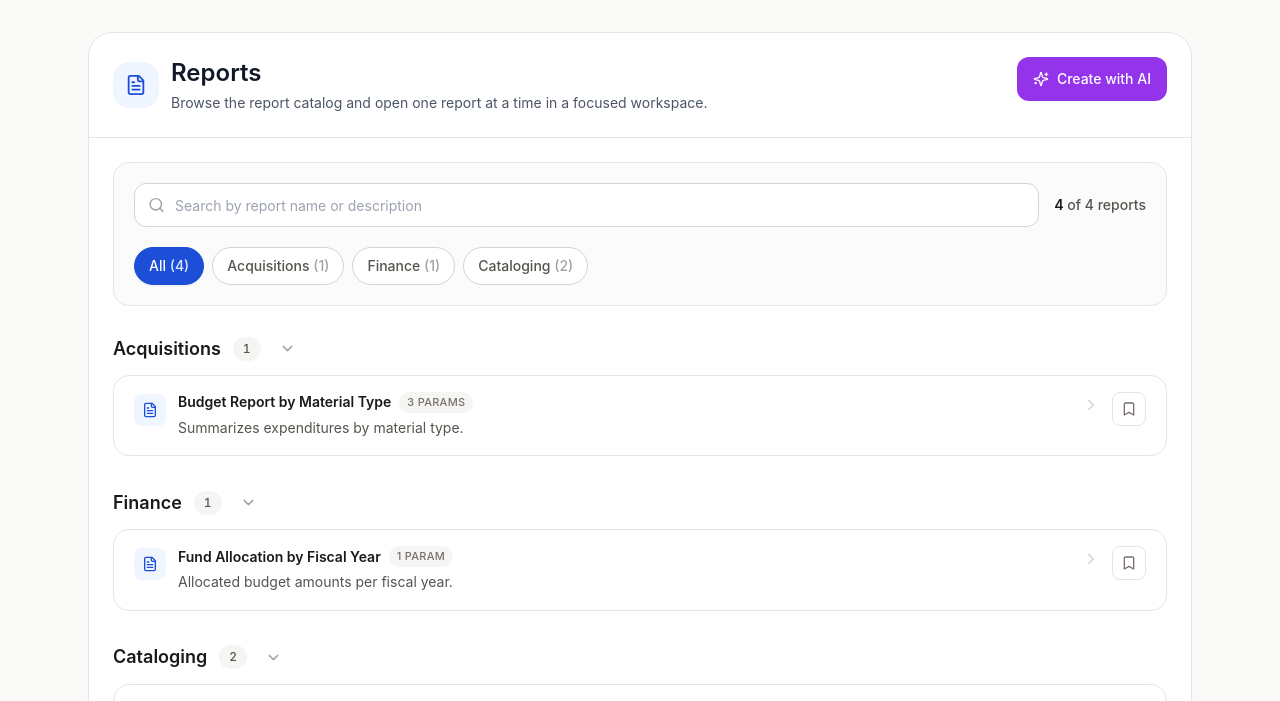
Scenario: Reports › filters by report name or description and combines text search with category
Type "ALLOCATED" into the search field named "Search reports" at point(586, 205), box x1=134 y1=183 x2=1039 y2=227
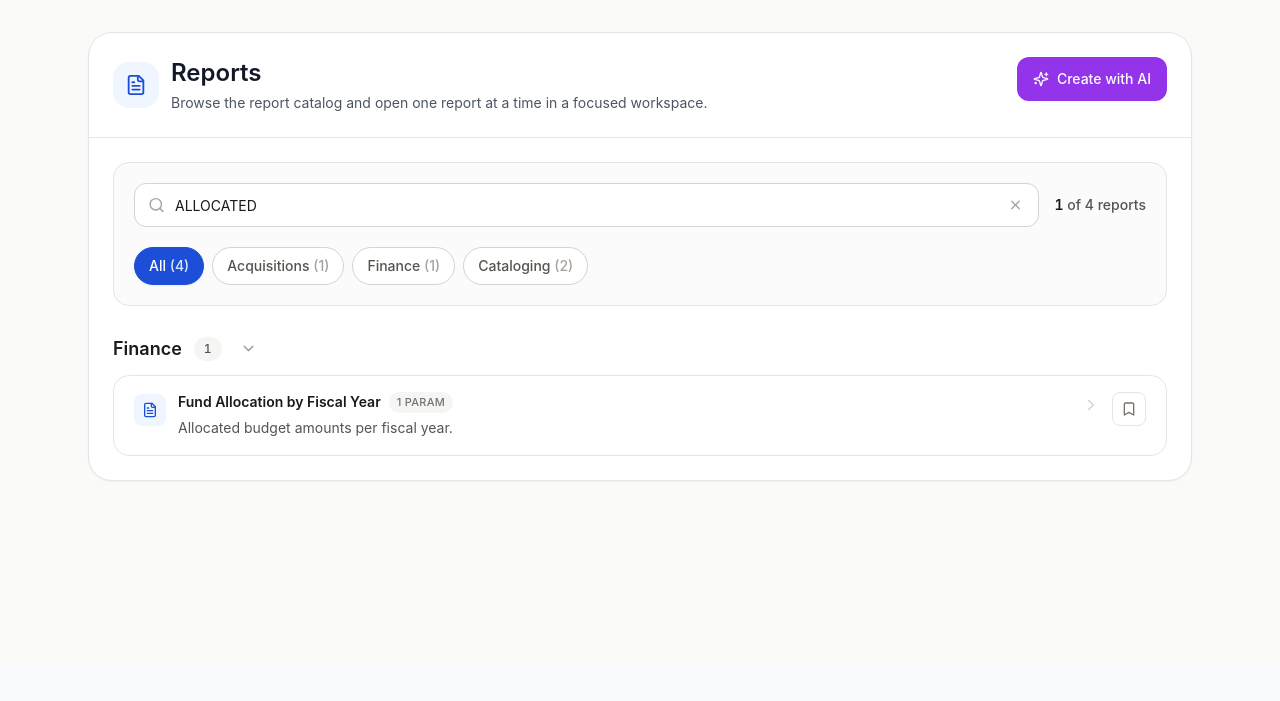
Expected: the text "Fund Allocation by Fiscal Year" is shown, x1=178 y1=392 x2=381 y2=412
Result: the message reads "1 of 4 reports" at x1=1055 y1=195 x2=1146 y2=215
Result: the button "Budget Report by Material Type" is gone
Click the button "Cataloging (2)" at point(526, 266), box x1=463 y1=247 x2=588 y2=285
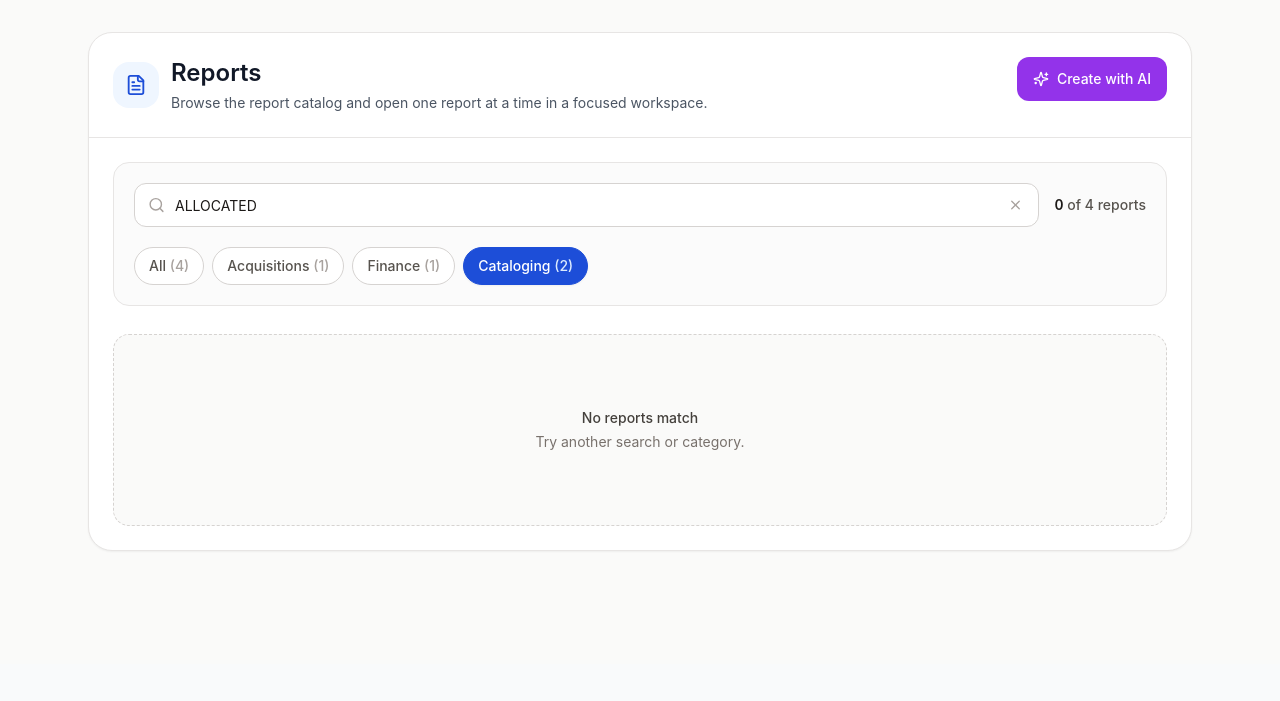
Result: the text "No reports match" is shown at x1=582 y1=408 x2=698 y2=428
Result: the message reads "0 of 4 reports" at x1=1055 y1=195 x2=1146 y2=215
Click the button named "Clear search" at point(1015, 205), box x1=1000 y1=190 x2=1031 y2=220
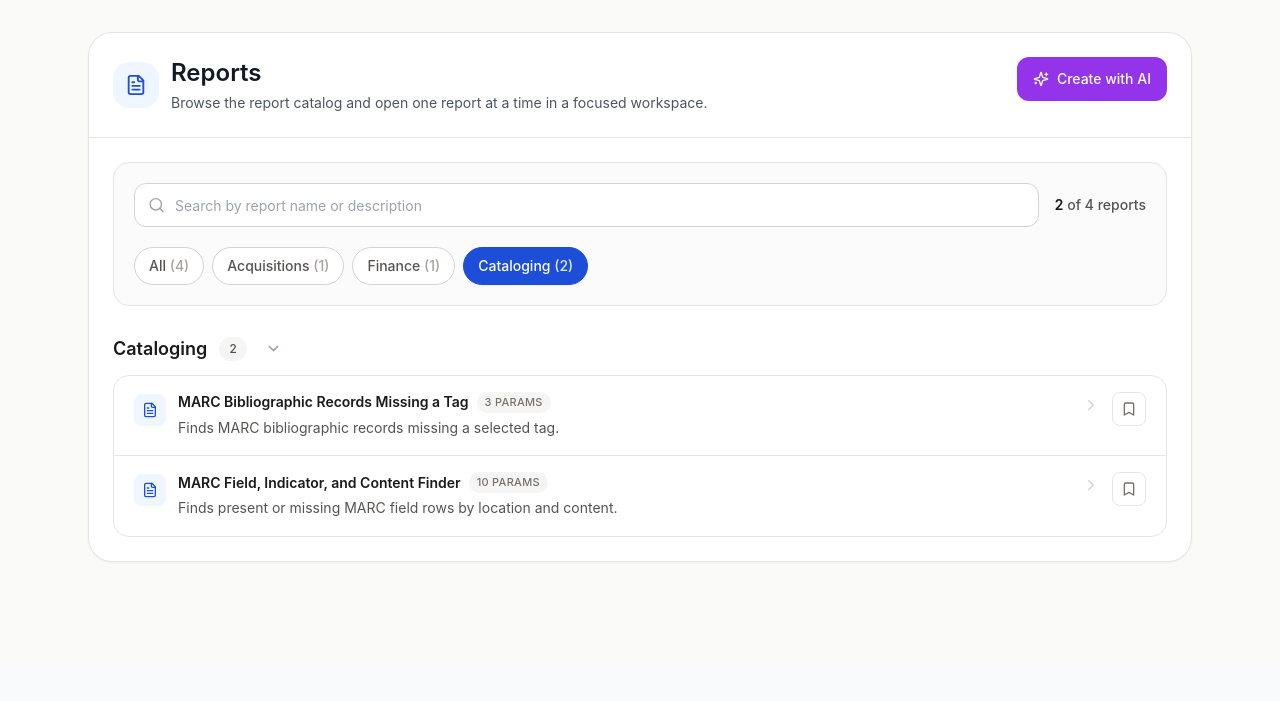
Expected: the button "Fund Allocation by Fiscal Year" is not shown
Result: the text "MARC Field, Indicator, and Content Finder" is shown at x1=178 y1=472 x2=461 y2=492
